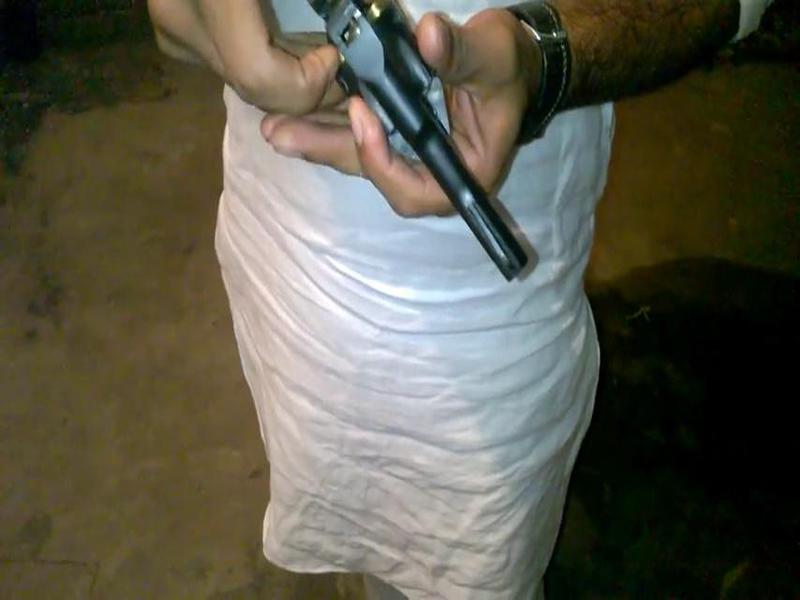Revolver: (240, 1, 561, 284)
